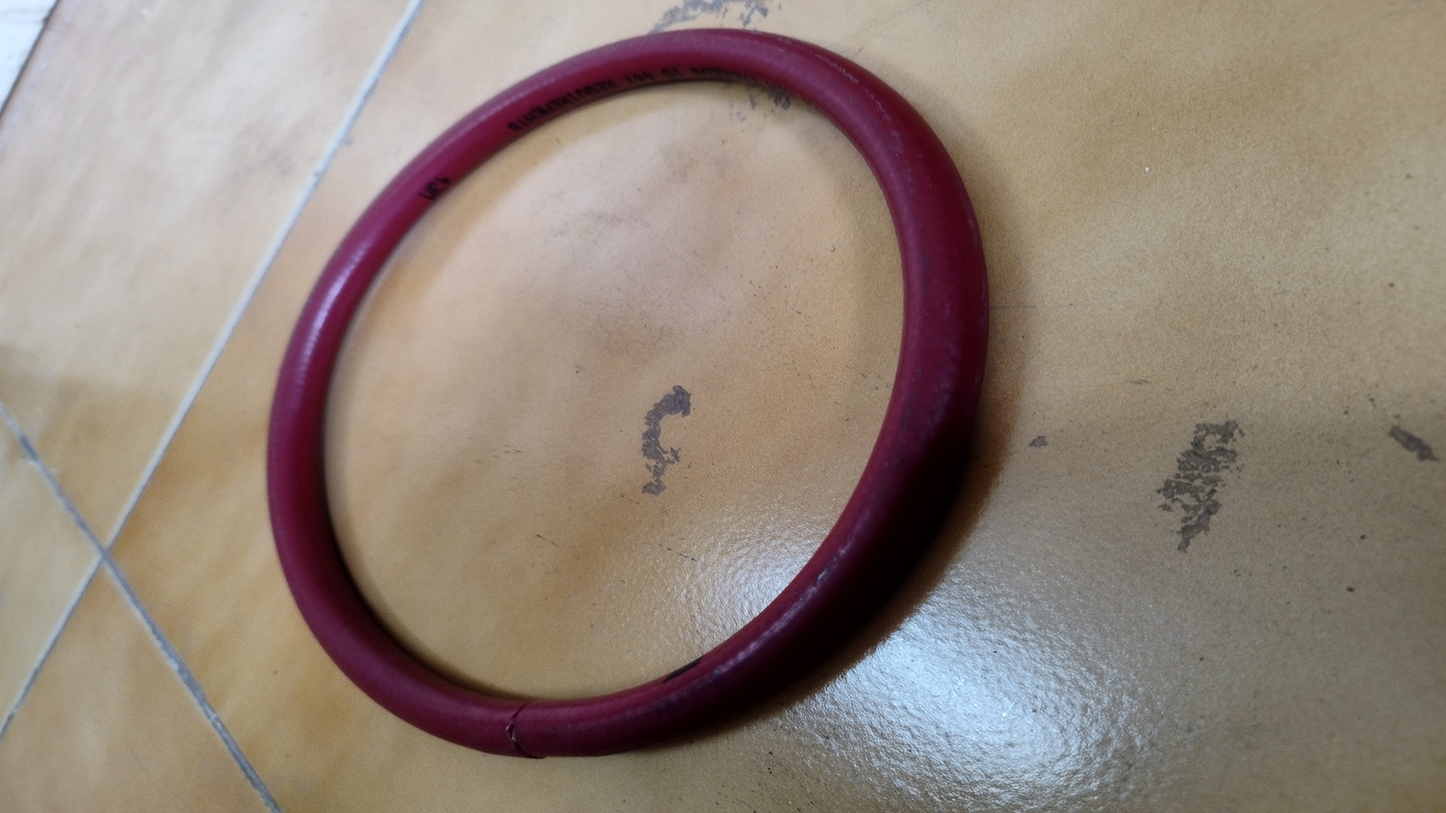Red ring: (262, 26, 993, 760)
